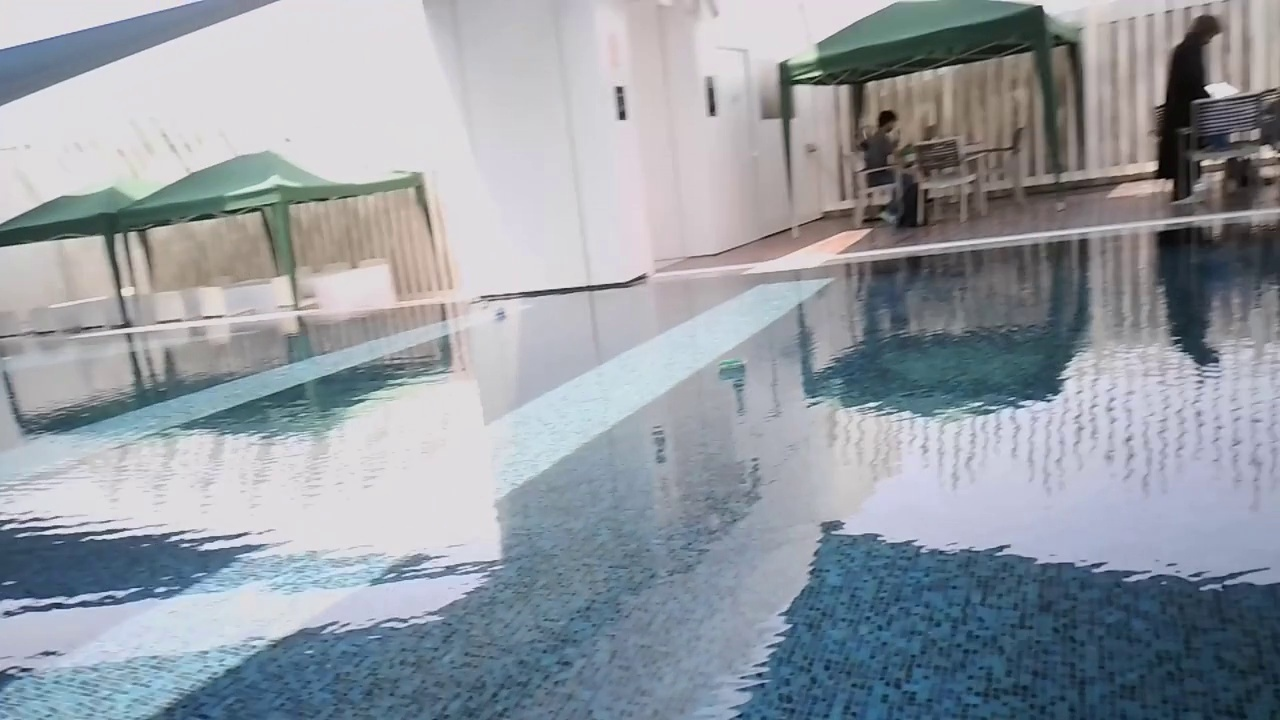debris: (714, 358, 747, 381), (491, 304, 510, 326)
